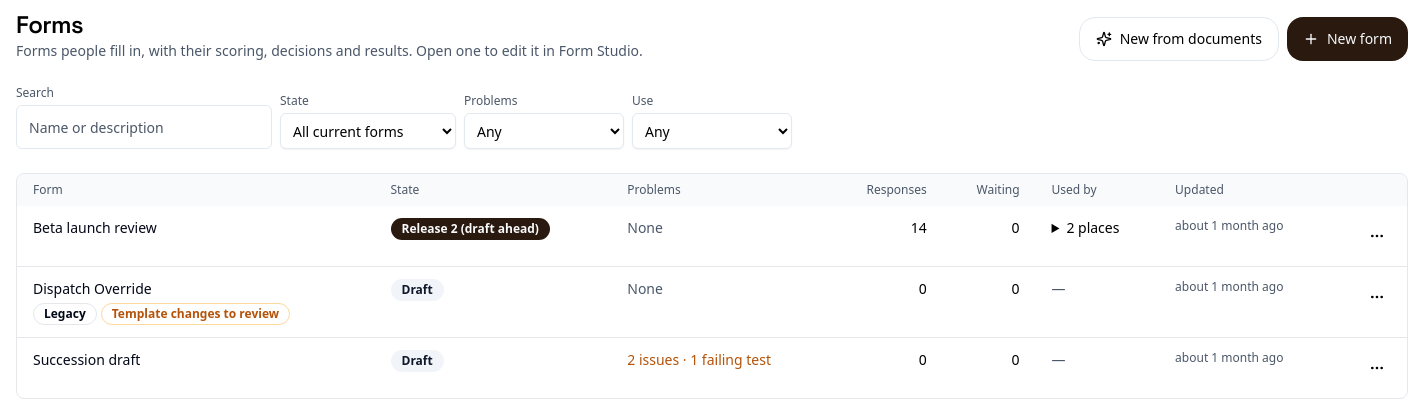
Test: FormsLibraryPage › asks the library for the chosen state
Check: the row with test id "form-row-1" is shown, box top-left (17, 206), bottom-right (1407, 266)
Select "Draft" in the dropdown labelled "State" at (368, 131), box top-left (280, 113), bottom-right (456, 149)
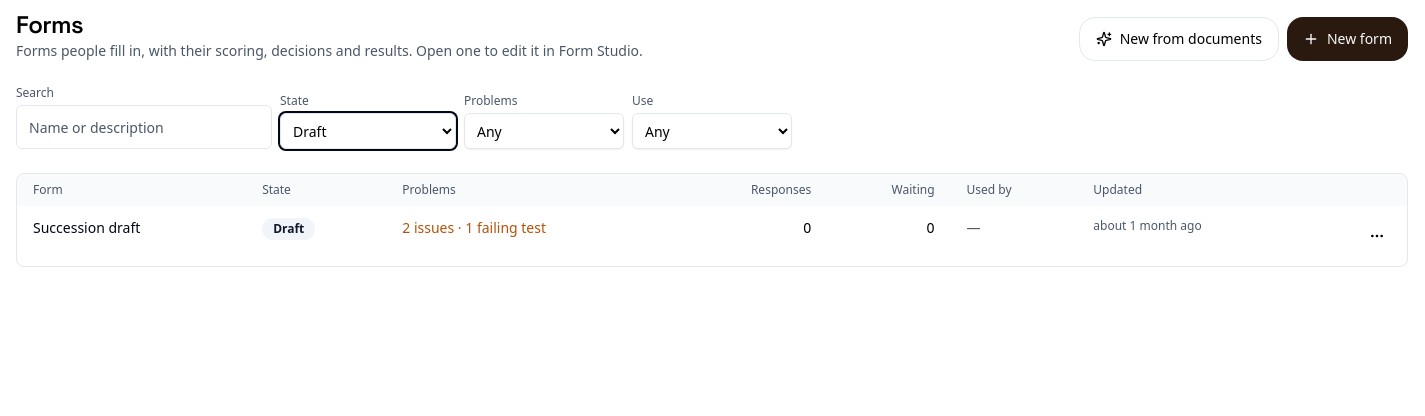
Check: the row with test id "form-row-1" is gone
